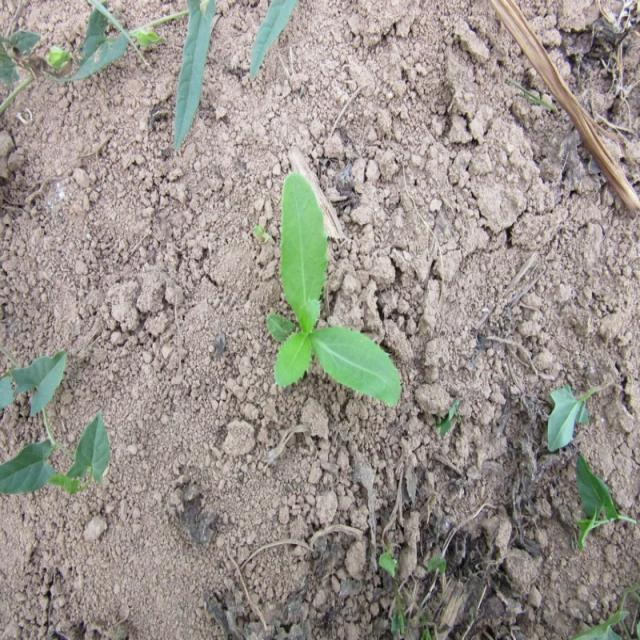cs: (262, 166, 407, 415)
